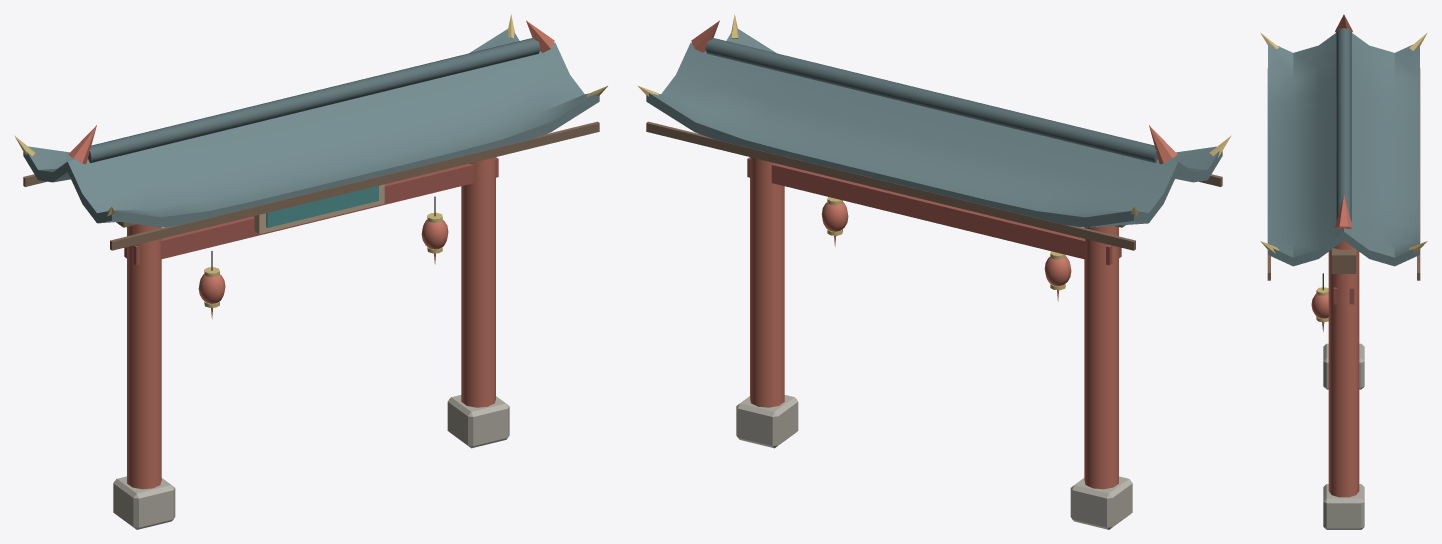
File: gate_village.glb
3 views of the same model, side by side, from view 1: azimuth 30°, elevation 25°; view 2: azimuth 150°, elevation 25°; view 3: azimuth 270°, elevation 25° (orthographic). The views are drawn at different scales.
Visible parts, largest first — view 1: Gate; view 2: Gate; view 3: Gate.
Boxes of the visible parts, <box> form: Gate: <box>14,14,607,529</box>; Gate: <box>638,14,1231,529</box>; Gate: <box>1260,14,1427,529</box>.
Size of what is drawn, in the model's own units: 7.13 by 5.55 by 2.42.
